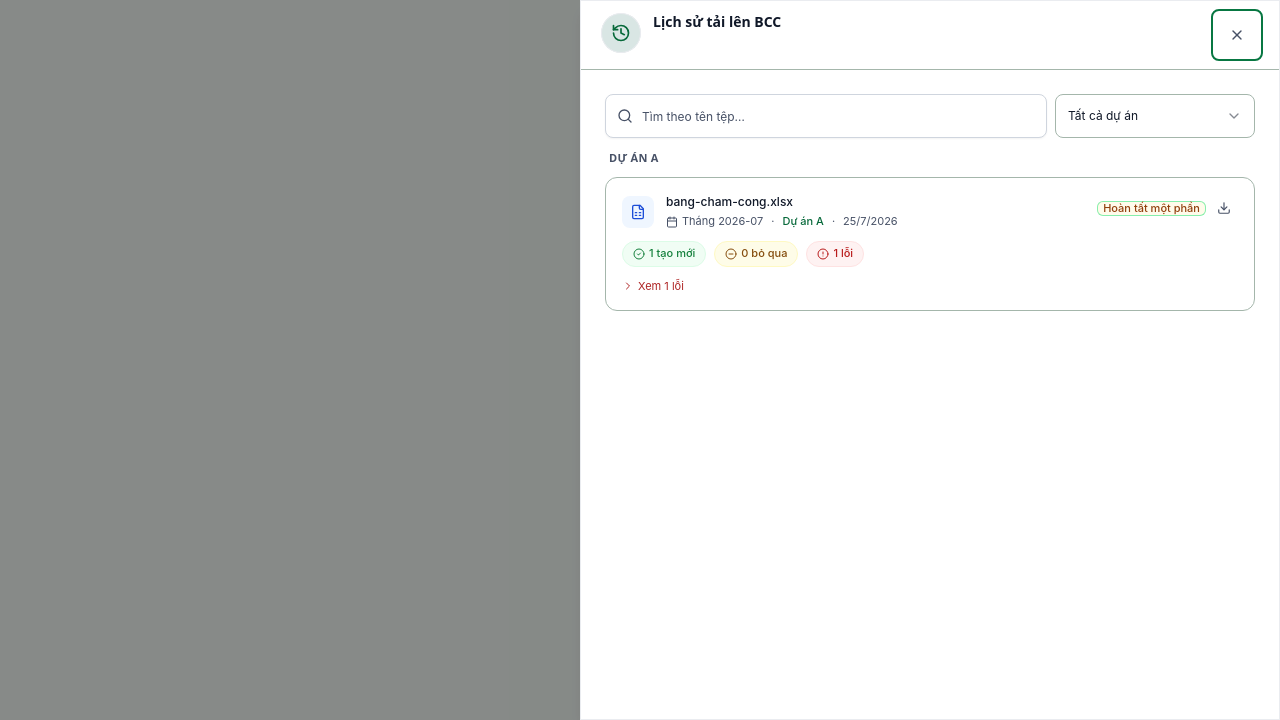
Test: UploadHistorySheet › marks completed imports with row errors as partial and hides technical details
Expected: the text "Hoàn tất một phần" is shown, [1097, 201, 1206, 216]
Click the button "Xem 1 lỗi".
click(653, 286)  # box [622, 279, 684, 294]
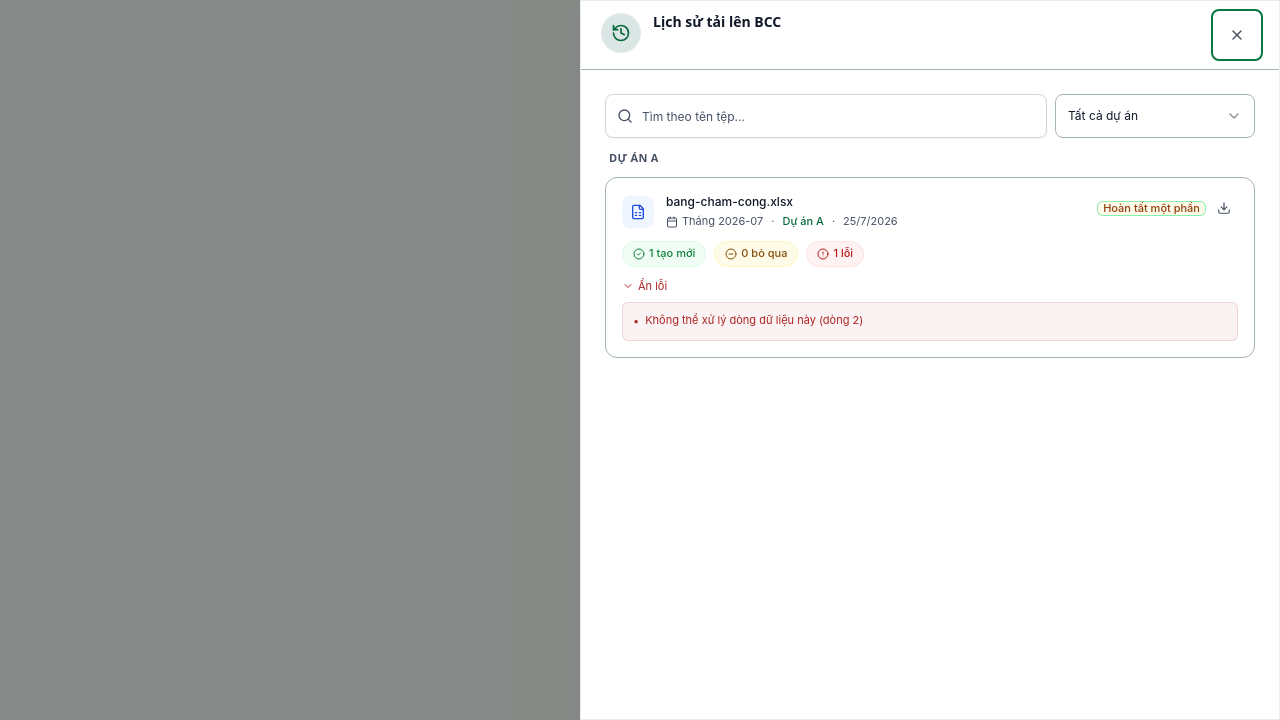
Expected: the text "Không thể xử lý dòng dữ liệu này" is shown, [645, 313, 816, 327]
Expected: the text "(dòng 2)" is shown, [816, 313, 863, 327]
